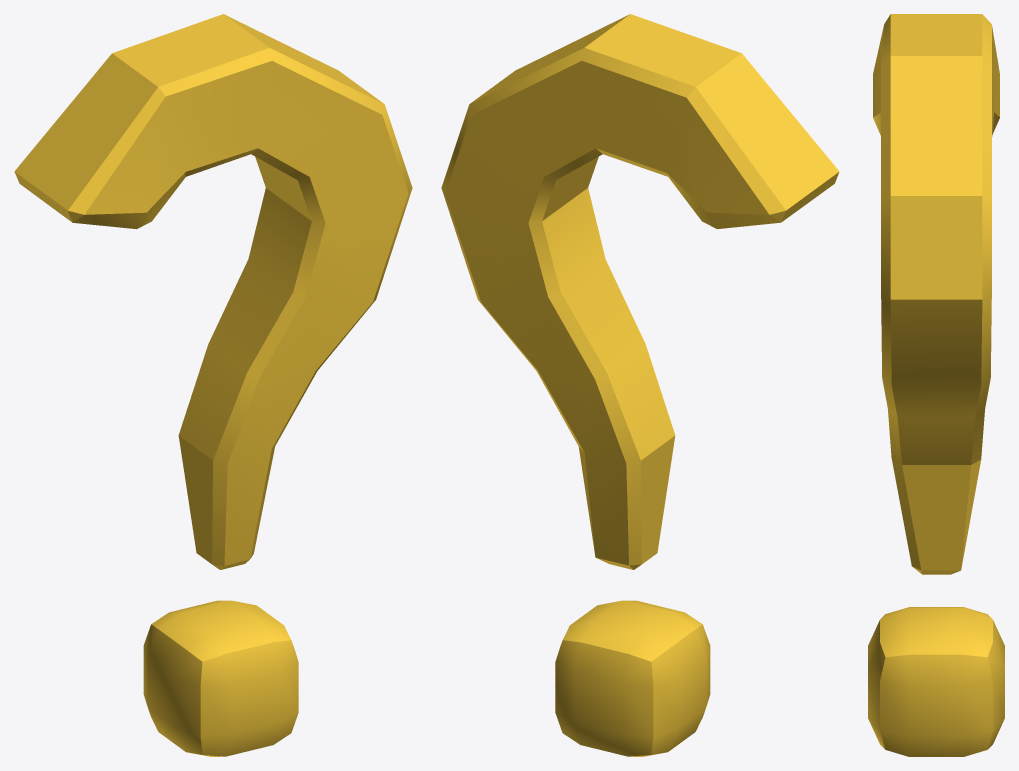
File: QuestionMarkYellow.fbx
3 views of the same model, side by side, from view 1: azimuth 30°, elevation 25°; view 2: azimuth 150°, elevation 25°; view 3: azimuth 270°, elevation 25° (orthographic).
Visible parts, largest first — view 1: QuestionMarkYellow; view 2: QuestionMarkYellow; view 3: QuestionMarkYellow.
Part boxes in pixels (left/top/right/bottom): QuestionMarkYellow: left=14, top=14, right=412, bottom=756; QuestionMarkYellow: left=441, top=14, right=839, bottom=756; QuestionMarkYellow: left=868, top=14, right=1004, bottom=756.
Bounding box in the file's own units: 2.63 × 5.09 × 0.9009.
Materials: 1 (1 with a texture image).
